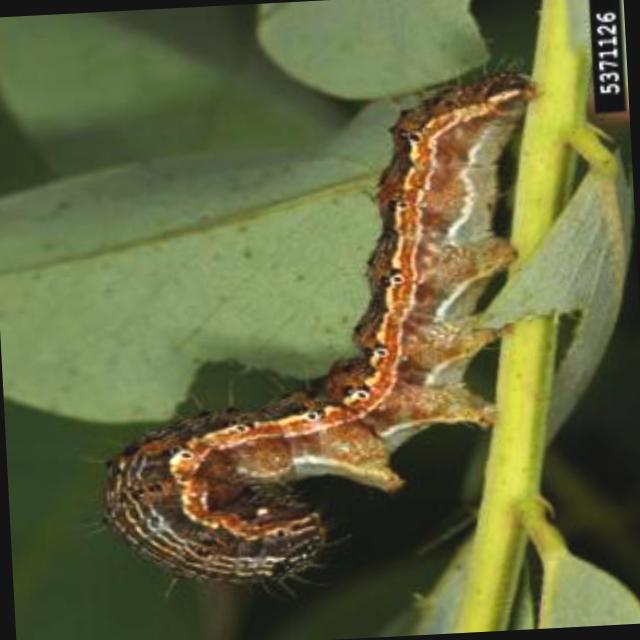Cotton bollworm: (59, 48, 588, 620)
